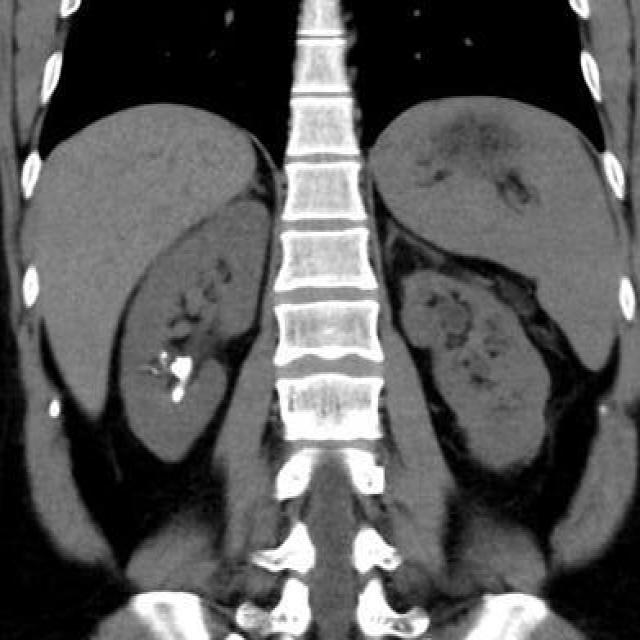Tas_Var: (169, 350, 193, 382), (171, 386, 186, 404), (157, 347, 167, 361)
